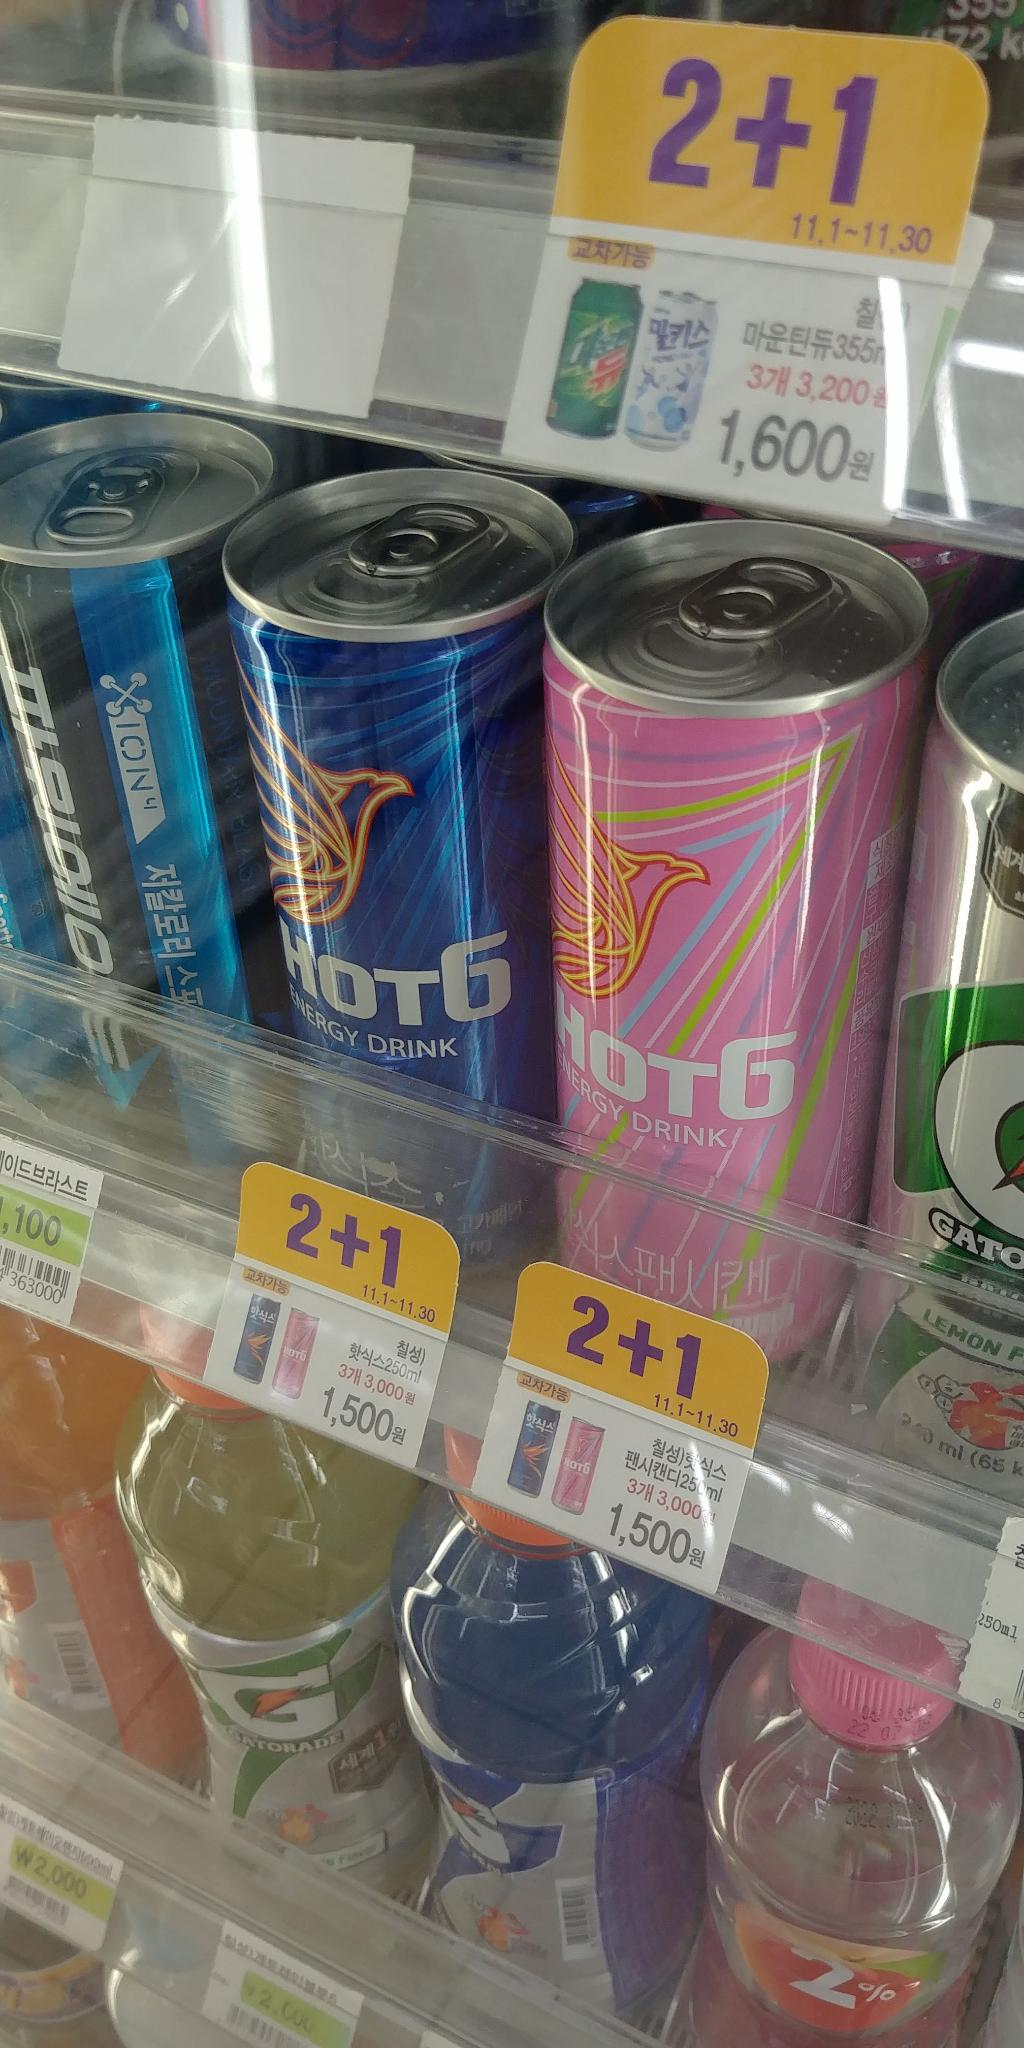gatorade_lemon: (110, 1284, 462, 1963)
hotsix_org: (205, 451, 590, 1267)
